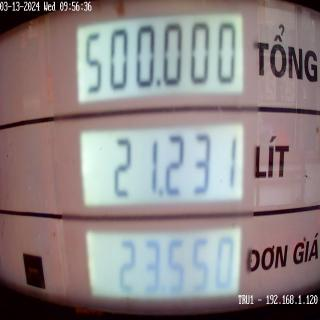screen: (69, 0, 252, 318)
